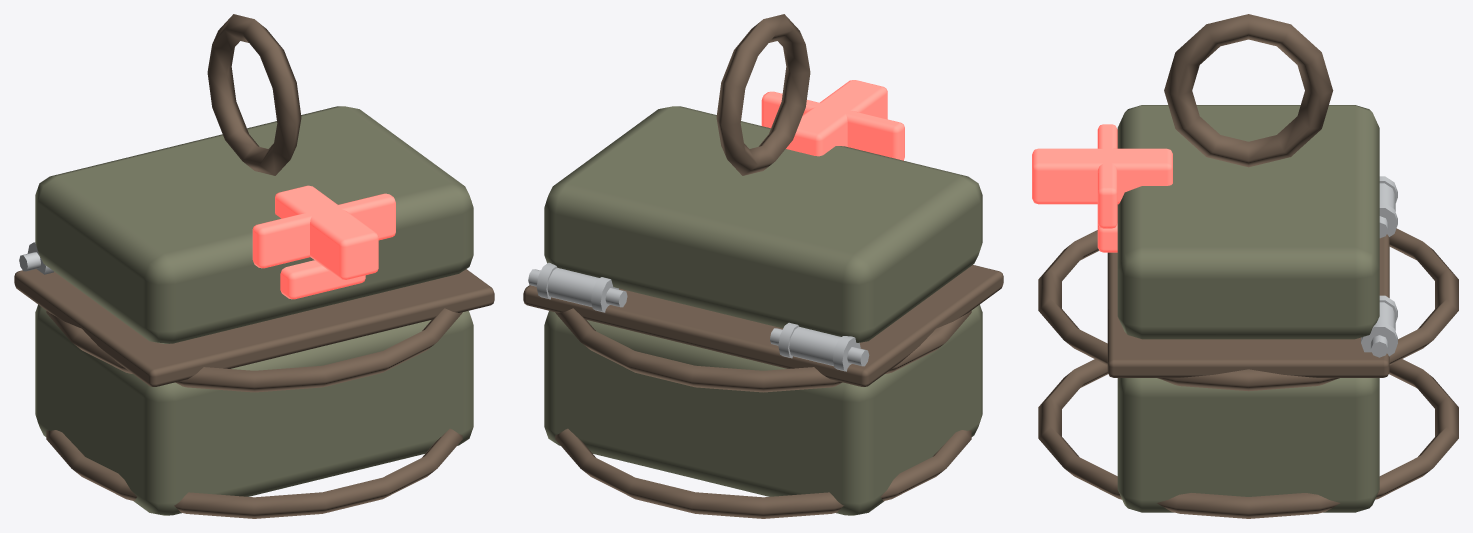
Rendered from fps-survival-forest-outpost-medical-kit-740d05cd__32666.glb.
3 views of the same model, side by side, from view 1: azimuth 30°, elevation 25°; view 2: azimuth 150°, elevation 25°; view 3: azimuth 270°, elevation 25° (orthographic).
Parts seen in each view (by area): view 1: medical-kit, lid/canvas, lid/warn; view 2: medical-kit, lid/canvas, lid/warn; view 3: medical-kit, lid/canvas, lid/warn.
Part boxes in pixels (x1,y1,x2,y2): medical-kit: (14, 14, 494, 518); lid/canvas: (35, 106, 473, 343); lid/warn: (252, 185, 395, 299); medical-kit: (523, 14, 1003, 518); lid/canvas: (544, 106, 982, 342); lid/warn: (761, 80, 904, 160); medical-kit: (1038, 14, 1458, 518); lid/canvas: (1117, 105, 1379, 339); lid/warn: (1032, 124, 1172, 252).
Size of the model in its own units: 0.424 by 0.468 by 0.4238.
